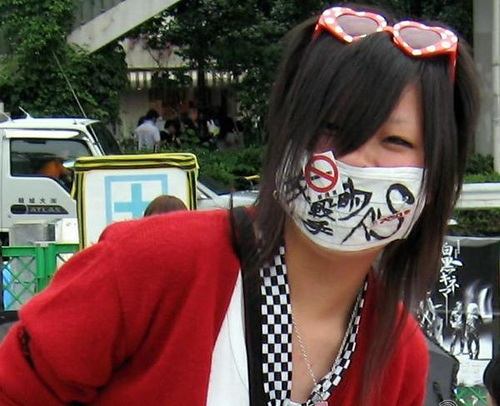face_mask: (295, 75, 427, 240)
